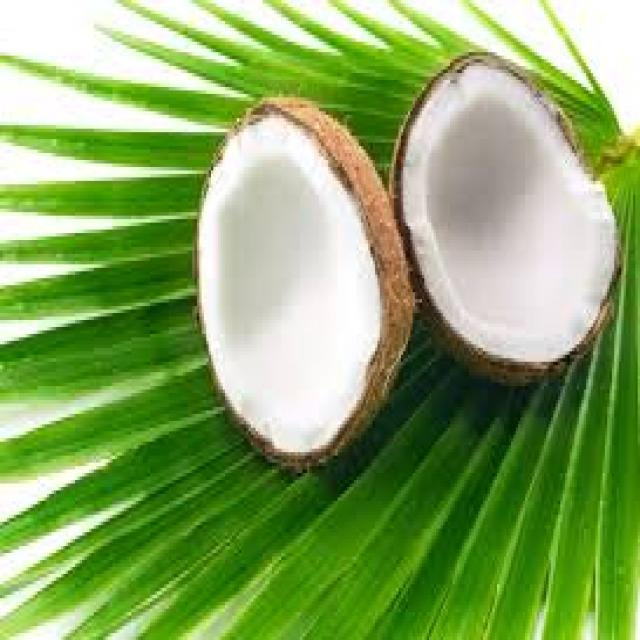organic waste: (0, 0, 638, 637), (187, 87, 415, 473), (386, 45, 624, 390)
